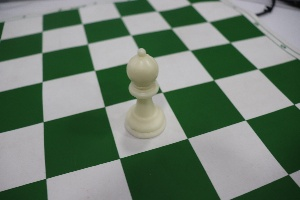white_bishop: (116, 35, 172, 144)
